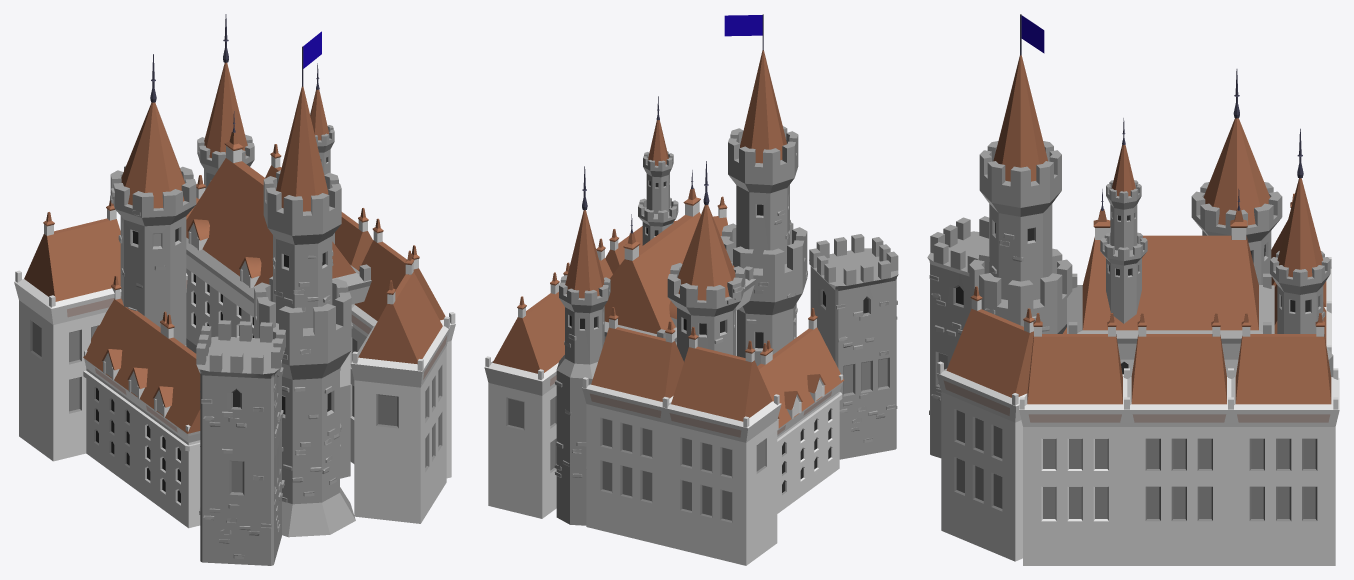
The model's file is Castle.fbx.
The picture shows the model from 3 angles, left to right: view 1: azimuth 30°, elevation 25°; view 2: azimuth 150°, elevation 25°; view 3: azimuth 270°, elevation 25°; orthographic projection. The views are drawn at different scales.
Parts seen in each view (by area): view 1: polySurface54, pCube5, polySurface52, pCube32, polySurface19, polySurface53, polySurface55, polySurface51, polySurface56, polySurface49; view 2: polySurface19, polySurface48, polySurface54, pCube32, polySurface50, pCube5, polySurface53, polySurface56, polySurface55, polySurface51; view 3: polySurface50, polySurface49, polySurface51, polySurface53, polySurface52, polySurface54, polySurface55, pCube32, polySurface56, polySurface19.
Boxes of the visible parts, x1,y1,x2,y2 form: polySurface54: (254,31,355,537); pCube5: (83,275,200,528); polySurface52: (350,250,450,523); pCube32: (196,320,285,565); polySurface19: (14,200,121,461); polySurface53: (186,63,371,478); polySurface55: (110,54,196,345); polySurface51: (350,218,455,478); polySurface56: (197,14,254,189); polySurface49: (335,208,372,270); polySurface19: (662,327,781,565); polySurface48: (582,307,683,546); polySurface54: (720,14,807,365); pCube32: (809,234,898,459); polySurface50: (484,272,564,518); pCube5: (757,308,844,513); polySurface53: (604,96,755,355); polySurface56: (554,166,610,525); polySurface55: (667,161,745,361); polySurface51: (605,226,642,273); polySurface50: (1227,313,1339,565); polySurface49: (1123,313,1233,565); polySurface51: (1019,313,1129,565); polySurface53: (1067,118,1274,377); polySurface52: (936,286,1034,561); polySurface54: (969,14,1072,333); polySurface55: (1191,69,1282,284); pCube32: (927,216,989,458); polySurface56: (1270,128,1333,377); polySurface19: (1271,193,1331,313).
Size of the model in its own units: 4.26 by 6.61 by 5.17.
